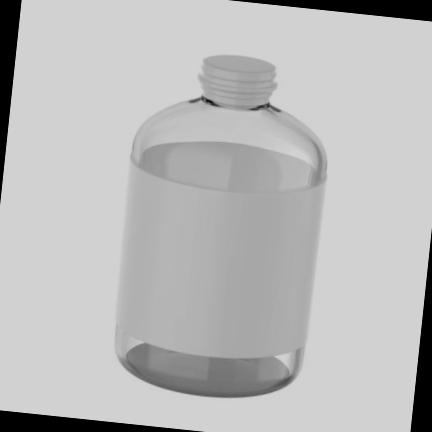container: (115, 97, 326, 397)
fluid: (117, 161, 325, 395)
fluid-surface: (137, 142, 324, 194)
